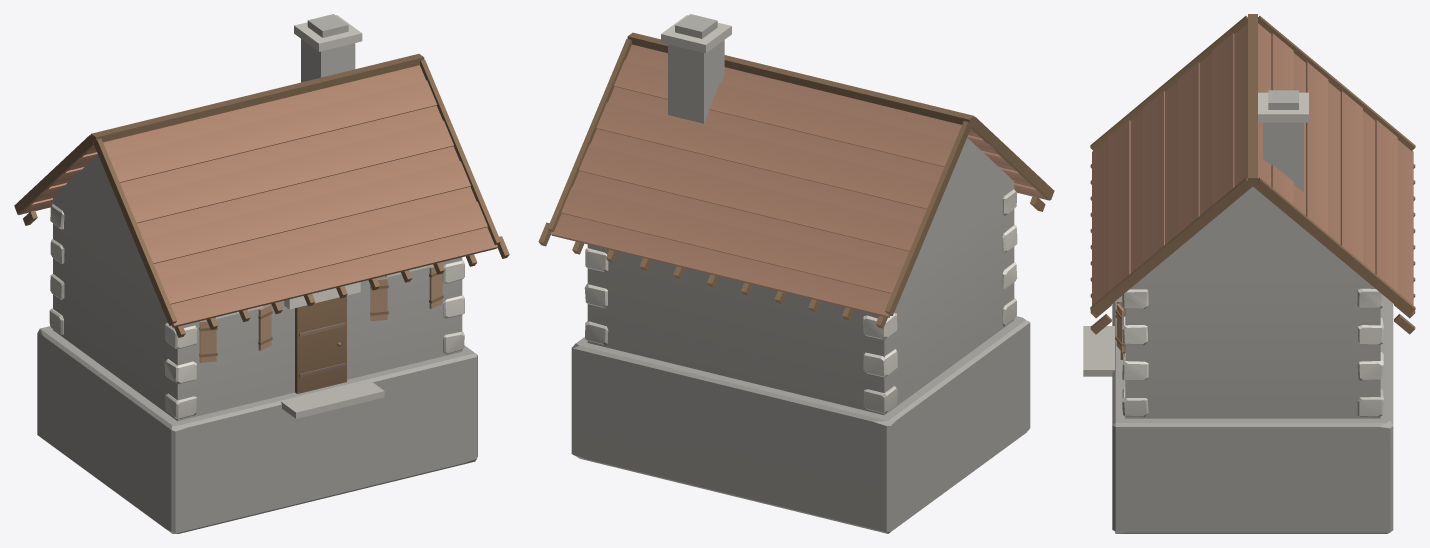
Rendered from haus_stein.glb.
3 views of the same model, side by side, from view 1: azimuth 30°, elevation 25°; view 2: azimuth 150°, elevation 25°; view 3: azimuth 270°, elevation 25° (orthographic). The views are drawn at different scales.
Parts seen in each view (by area): view 1: G_haus_stein; view 2: G_haus_stein; view 3: G_haus_stein.
Part boxes in pixels (box(x1,y1,x2,y2)): G_haus_stein: box(14, 14, 509, 533); G_haus_stein: box(538, 14, 1054, 533); G_haus_stein: box(1083, 14, 1415, 533).
Bounding box in the file's own units: 7.81 × 8.74 × 6.51.
